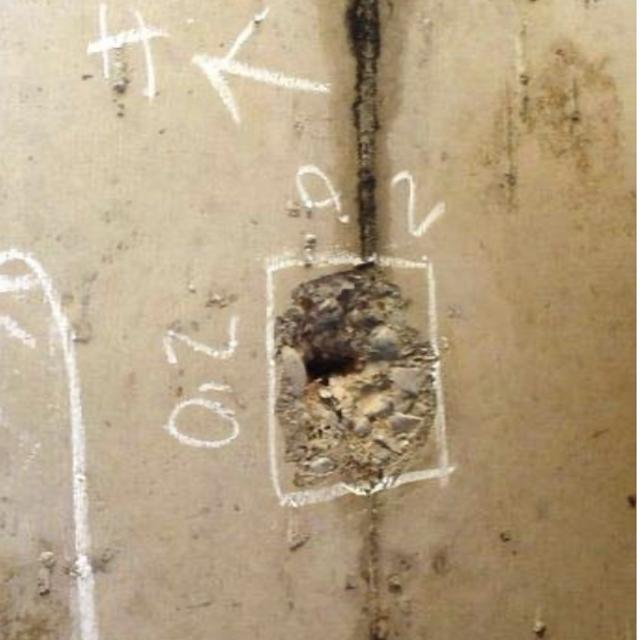spalling: (261, 249, 460, 494)
